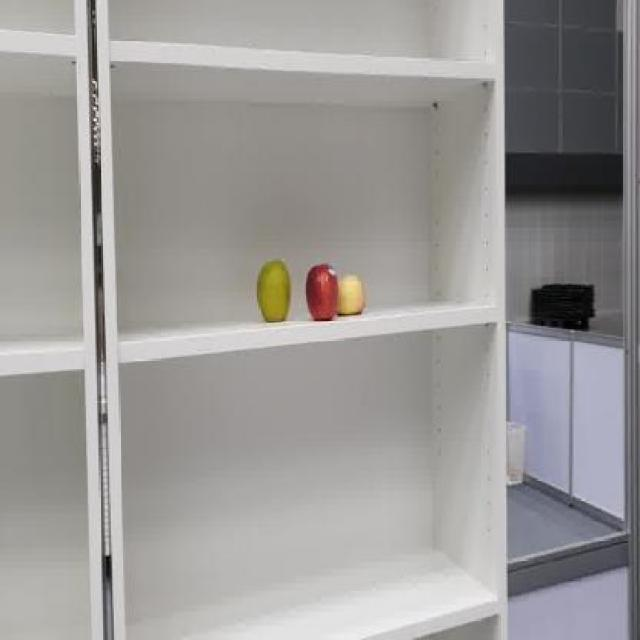Fresh Apple: (252, 251, 296, 328), (303, 260, 342, 322), (337, 274, 372, 312)
